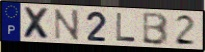2: (83, 9, 110, 44), (172, 15, 198, 46)
B: (141, 11, 170, 46)
L: (116, 12, 137, 44)
N: (53, 8, 81, 42)
X: (22, 6, 53, 41)
